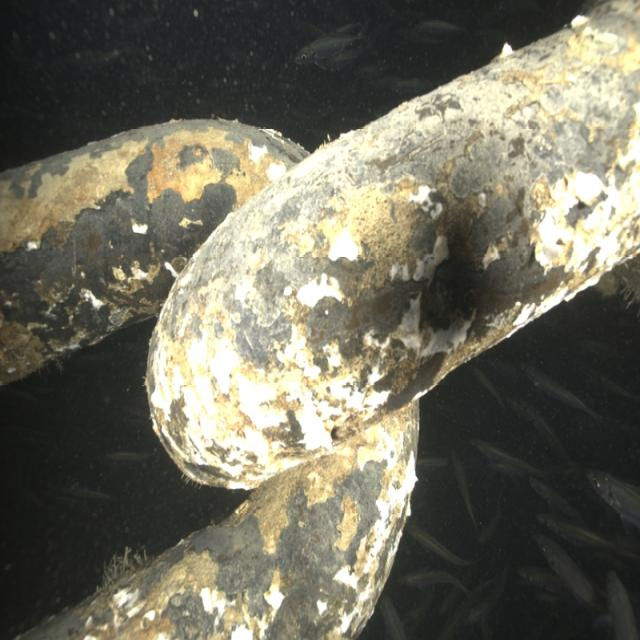ChainLink: (146, 3, 640, 488), (25, 402, 419, 638), (0, 120, 308, 384)
